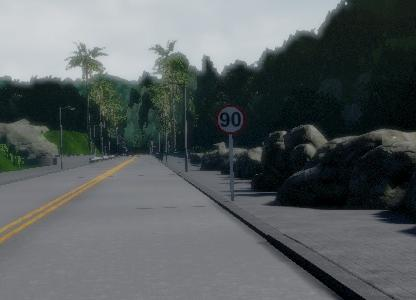Speed_90: (214, 103, 246, 135)
